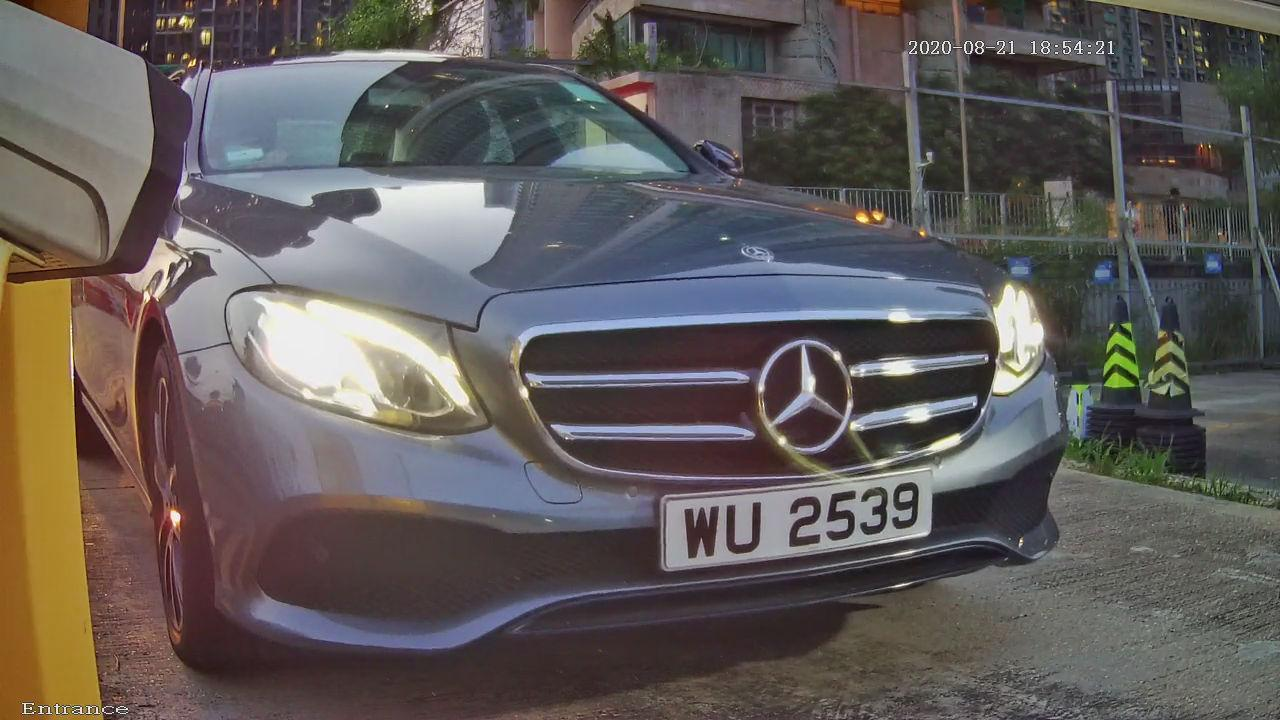Car: (35, 10, 1149, 704)
License Plate: (638, 443, 957, 597)
